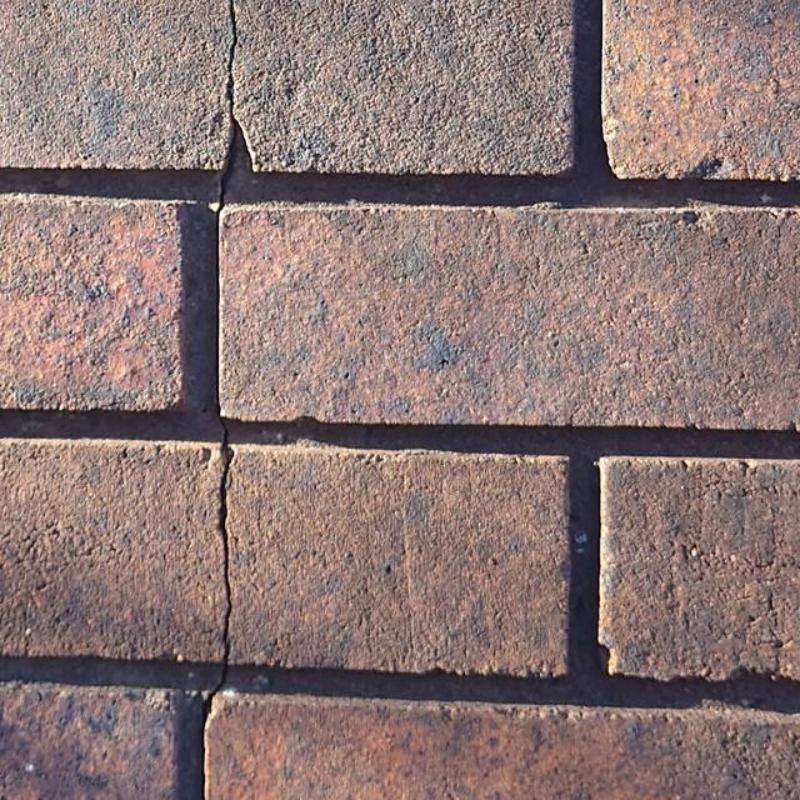crack: (201, 414, 235, 799), (220, 112, 238, 205), (227, 0, 234, 112)
